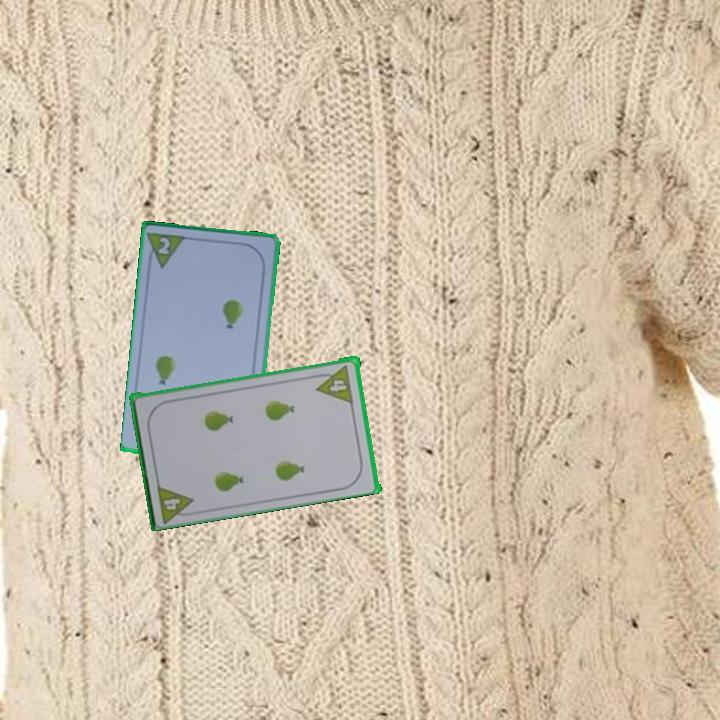2p: (144, 229, 190, 272)
4p: (315, 373, 353, 406), (160, 494, 183, 513)
